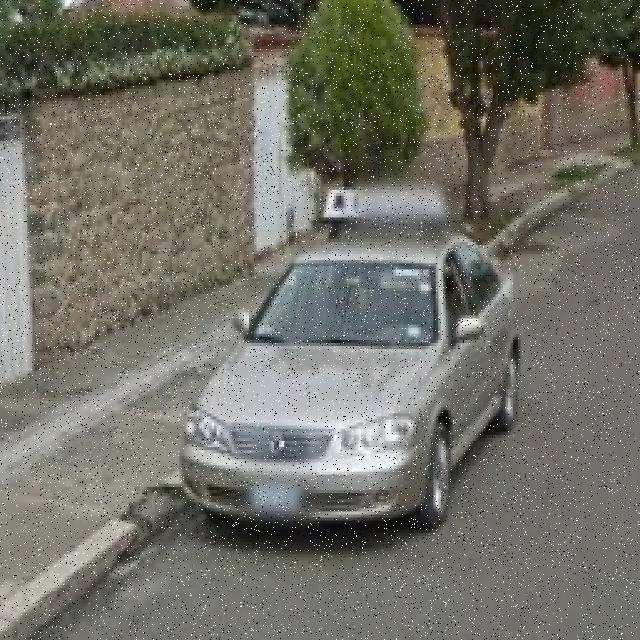cars: (187, 207, 526, 565)
